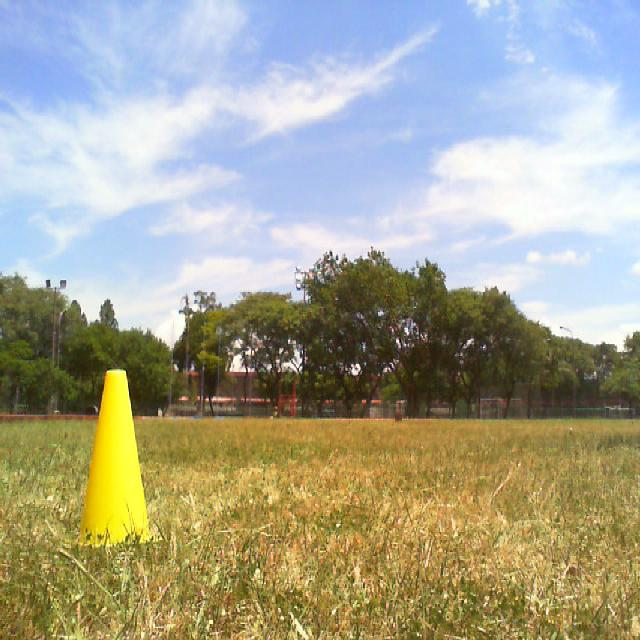cone: (74, 371, 158, 549)
